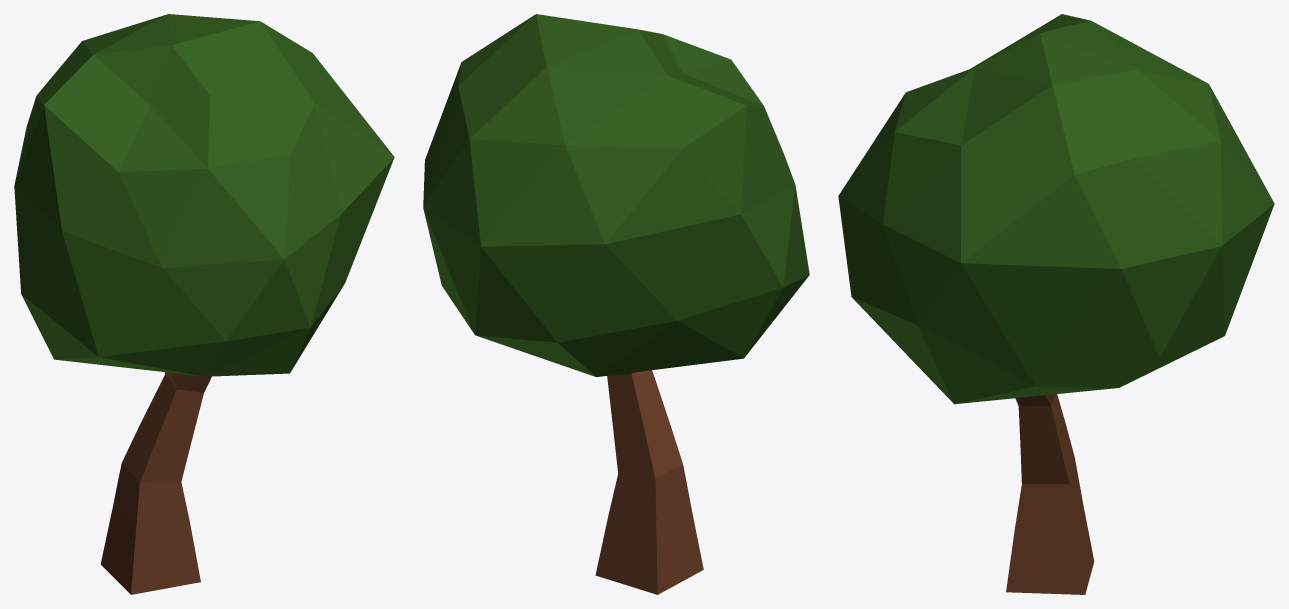
Rendered from GreenTree3.fbx.
3 views of the same model, side by side, from view 1: azimuth 30°, elevation 25°; view 2: azimuth 150°, elevation 25°; view 3: azimuth 270°, elevation 25° (orthographic). The views are drawn at different scales.
Parts seen in each view (by area): view 1: LemonTree3.002; view 2: LemonTree3.002; view 3: LemonTree3.002.
Boxes of the visible parts, <box> form: LemonTree3.002: <box>14,14,394,594</box>; LemonTree3.002: <box>423,14,809,594</box>; LemonTree3.002: <box>838,14,1274,594</box>.
Bounding box in the file's own units: 257 × 391 × 280.
